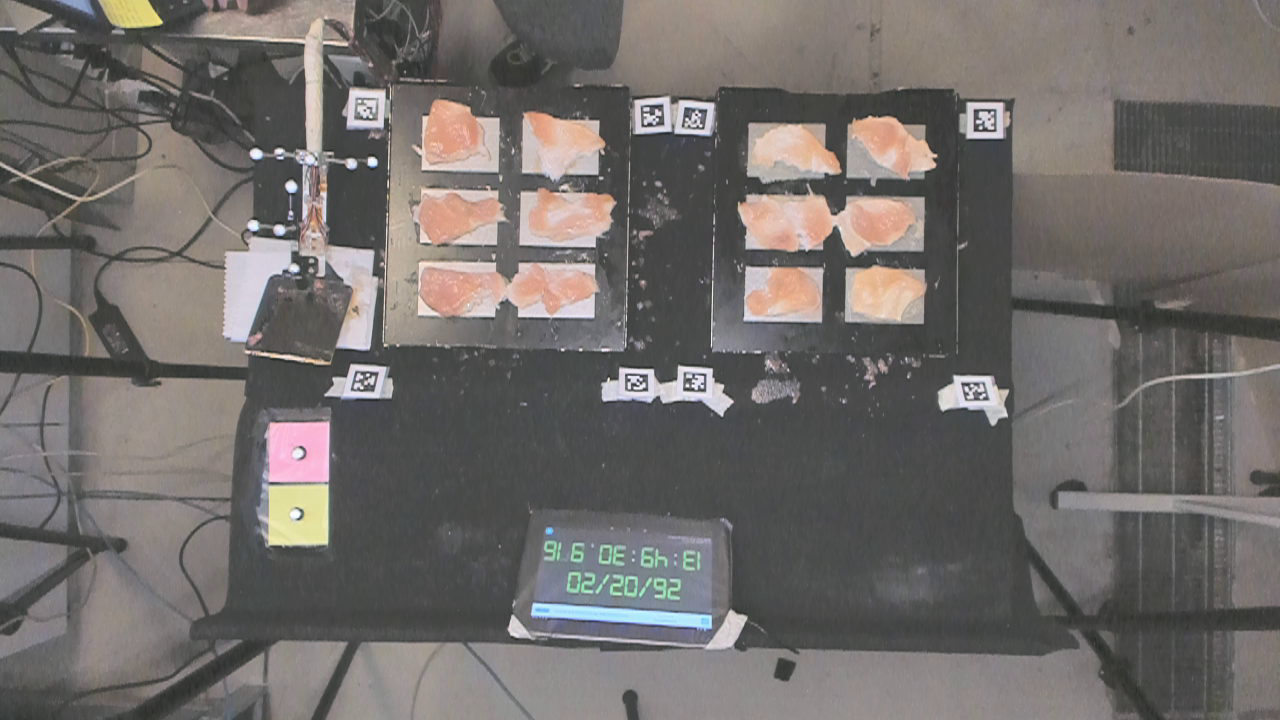chicken: (516, 109, 610, 181), (733, 189, 833, 251), (844, 260, 928, 328), (852, 114, 941, 177), (838, 193, 921, 256), (748, 124, 841, 180), (422, 90, 489, 167), (413, 263, 503, 318), (530, 187, 615, 245), (745, 262, 826, 319), (412, 193, 505, 242), (508, 263, 594, 314)
marker: (268, 423, 330, 482)
